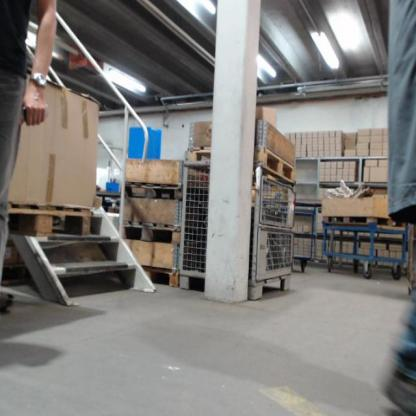pallet: (187, 142, 295, 185), (6, 197, 92, 236), (322, 212, 407, 233), (120, 218, 184, 245), (122, 177, 185, 201), (141, 263, 181, 288)
stillage: (177, 154, 298, 301)
